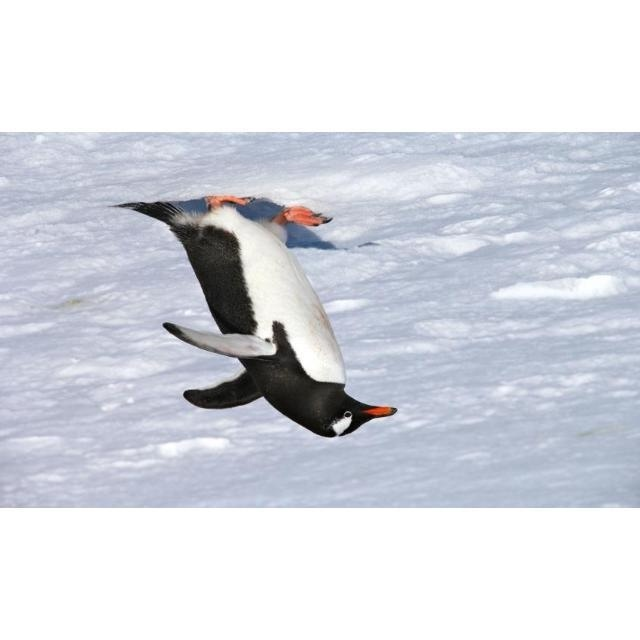penguin: (109, 194, 397, 437)
